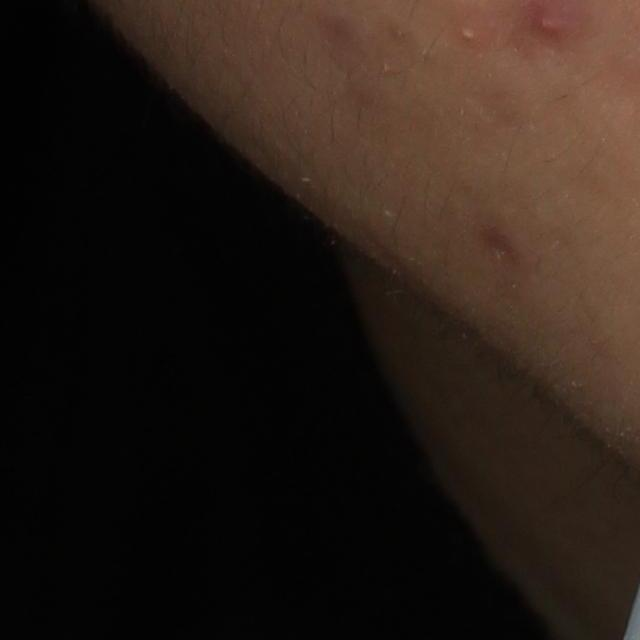papule: (529, 1, 571, 42)
